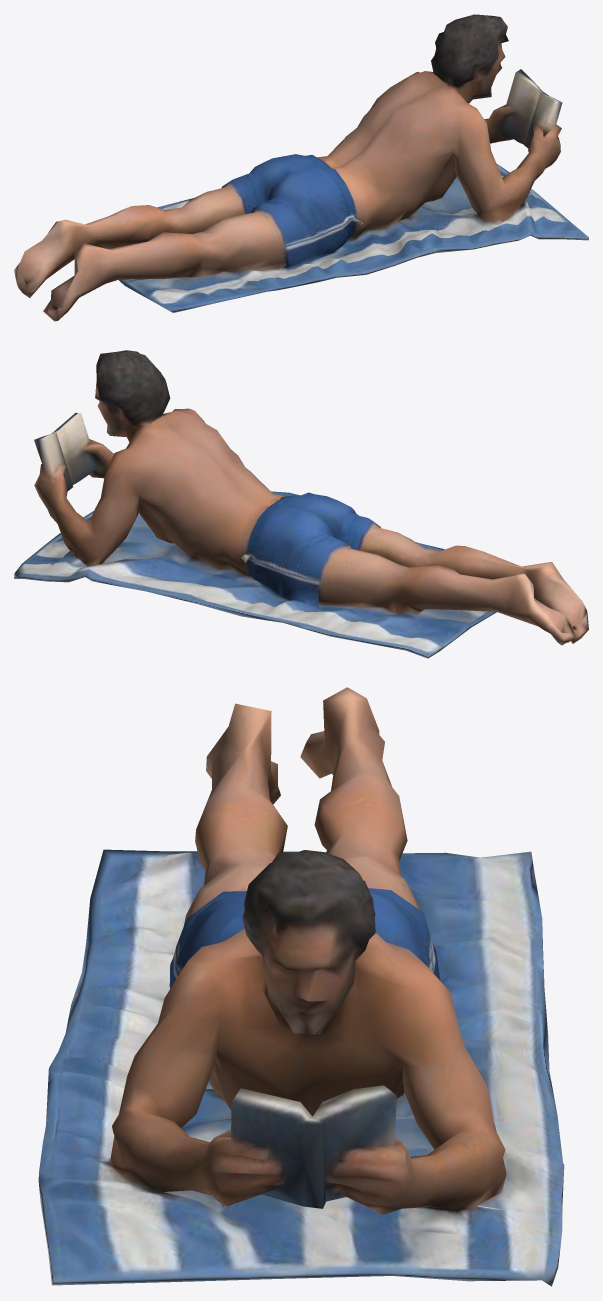
File: zs_mann_liegt.glb
The picture shows the model from 3 angles, top to bottom: view 1: azimuth 30°, elevation 25°; view 2: azimuth 150°, elevation 25°; view 3: azimuth 270°, elevation 25°; orthographic projection. The views are drawn at different scales.
Visible parts, largest first — view 1: tripo_node_51a2666a-0dde-46e5-8038-85c256a0892e; view 2: tripo_node_51a2666a-0dde-46e5-8038-85c256a0892e; view 3: tripo_node_51a2666a-0dde-46e5-8038-85c256a0892e.
Boxes of the visible parts, bbox=[...] form: tripo_node_51a2666a-0dde-46e5-8038-85c256a0892e: bbox=[14, 14, 588, 321]; tripo_node_51a2666a-0dde-46e5-8038-85c256a0892e: bbox=[14, 350, 588, 658]; tripo_node_51a2666a-0dde-46e5-8038-85c256a0892e: bbox=[38, 687, 564, 1286].
Size of the model in its own units: 1 by 0.3493 by 0.435.
1 material, 1 textured.
